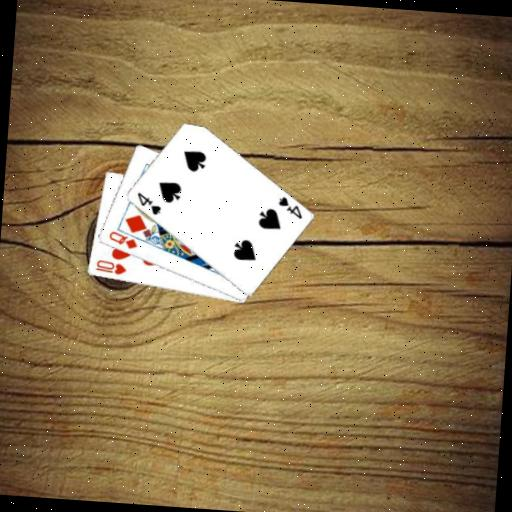10H: (93, 257, 129, 277)
4S: (274, 193, 305, 221), (133, 190, 164, 217)
QD: (105, 228, 140, 252)
